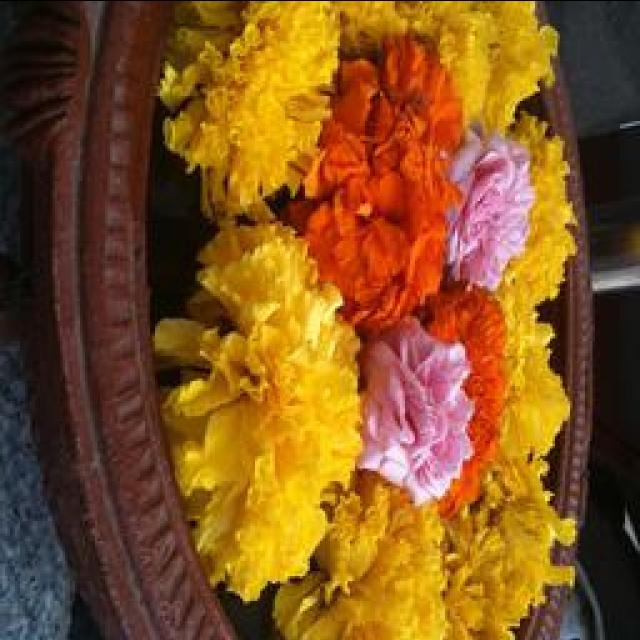carnation: (348, 307, 492, 496)
